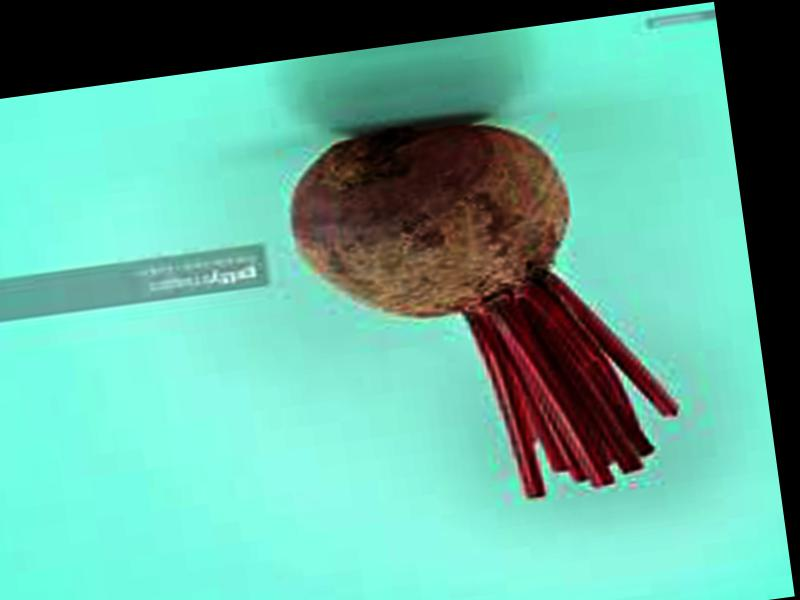Beet: (280, 95, 685, 526)
